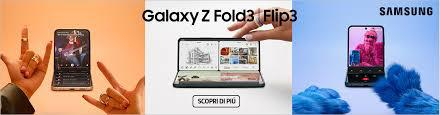1: (1, 30, 47, 94), (99, 65, 144, 115)
Hand: (231, 8, 292, 39)
Smartphone: (177, 38, 267, 89), (50, 27, 92, 93), (346, 27, 387, 87)
